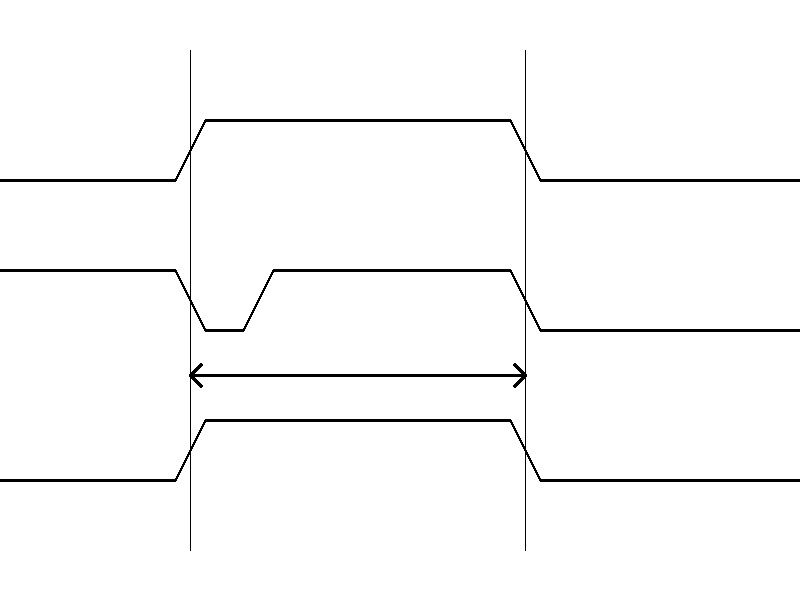double_arrow: (190, 360, 525, 390)
